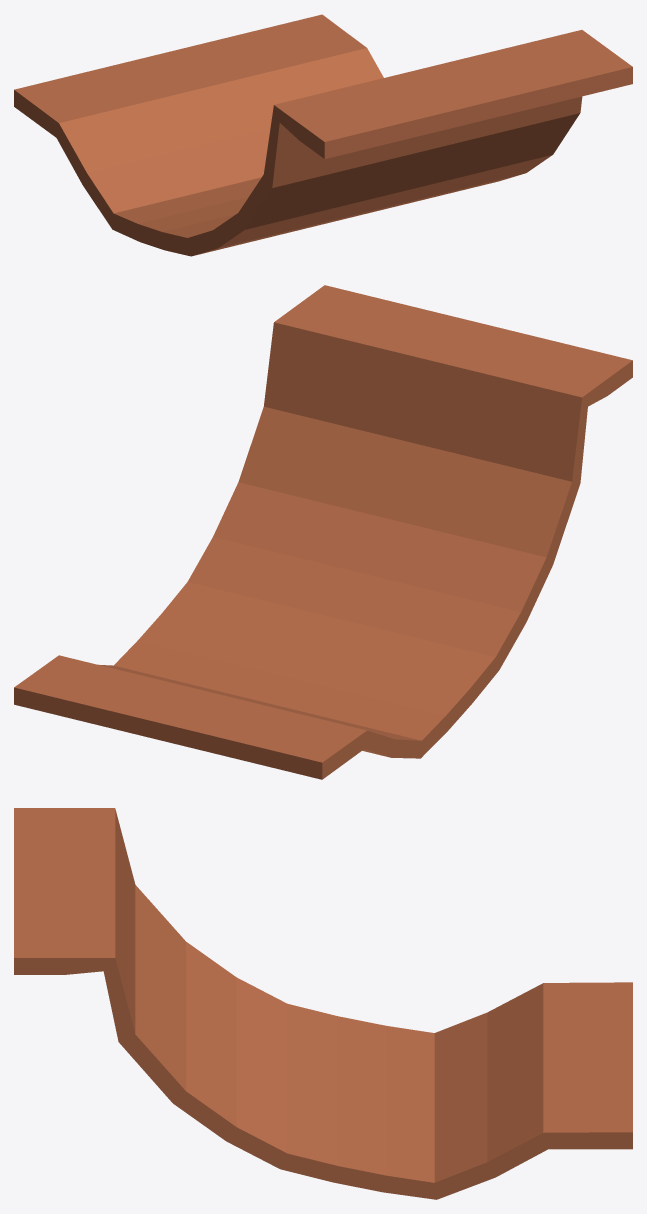
The model's file is RampV1.fbx.
3 renders of one model, top to bottom at view 1: azimuth 30°, elevation 25°; view 2: azimuth 150°, elevation 25°; view 3: azimuth 270°, elevation 25°, orthographic.
Visible parts, largest first — view 1: Plane; view 2: Plane; view 3: Plane.
Boxes of the visible parts, left/top/right/bottom form: Plane: left=14, top=14, right=632, bottom=256; Plane: left=14, top=285, right=632, bottom=779; Plane: left=14, top=808, right=632, bottom=1199.
Bounding box in the file's own units: 254 × 191 × 443.
